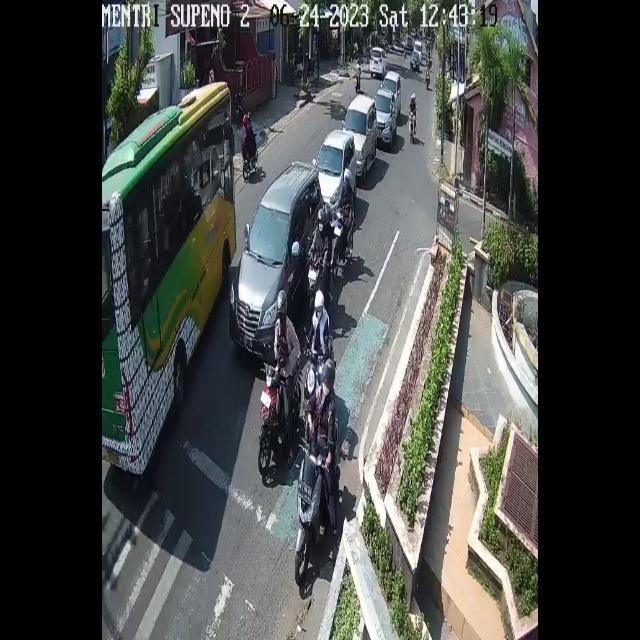bus: (294, 414, 341, 586), (257, 347, 302, 478), (302, 332, 334, 409), (332, 207, 354, 278), (306, 253, 329, 315), (408, 110, 417, 144)
car: (103, 80, 236, 488)
motorcycle: (229, 161, 327, 357), (315, 128, 357, 219), (343, 92, 379, 179), (374, 87, 396, 150), (384, 70, 402, 118), (370, 45, 388, 78)
